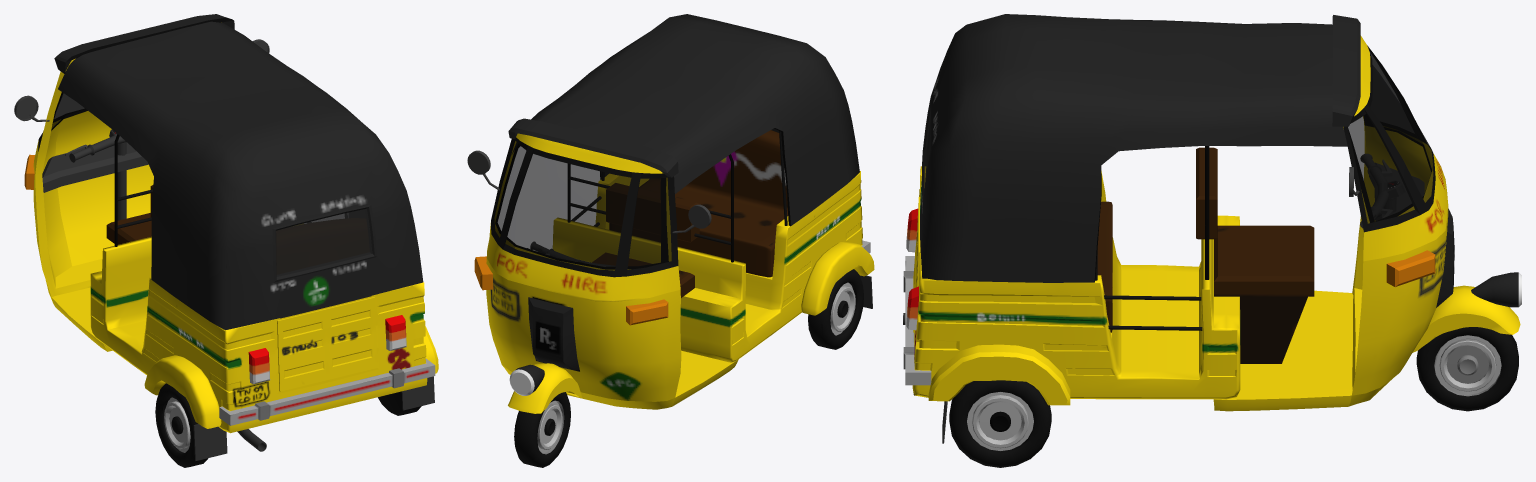
File: auto-rickshaw-rigged.glb
The picture shows the model from 3 angles, left to right: view 1: azimuth 30°, elevation 25°; view 2: azimuth 150°, elevation 25°; view 3: azimuth 270°, elevation 25°; orthographic projection. The views are drawn at different scales.
Parts seen in each view (by area): view 1: User_Auto_Rickshaw, Wheel_RL, Wheel_RR; view 2: User_Auto_Rickshaw, Wheel_F, Wheel_RL, FrontFender, FrontLamp; view 3: User_Auto_Rickshaw, Wheel_RR, Wheel_F, FrontFender, FrontLamp.
Boxes of the visible parts, x1=… form: User_Auto_Rickshaw: x1=14, y1=14, x2=438, y2=460; Wheel_RL: x1=155, y1=383, x2=208, y2=467; Wheel_RR: x1=378, y1=391, x2=421, y2=415; User_Auto_Rickshaw: x1=467, y1=14, x2=874, y2=409; Wheel_F: x1=514, y1=392, x2=570, y2=467; Wheel_RL: x1=808, y1=269, x2=863, y2=349; FrontFender: x1=508, y1=363, x2=581, y2=413; FrontLamp: x1=509, y1=364, x2=544, y2=395; User_Auto_Rickshaw: x1=903, y1=14, x2=1454, y2=443; Wheel_RR: x1=949, y1=380, x2=1051, y2=467; Wheel_F: x1=1416, y1=327, x2=1518, y2=411; FrontFender: x1=1412, y1=285, x2=1520, y2=352; FrontLamp: x1=1471, y1=272, x2=1521, y2=307.
Bounding box in the file's own units: 1.5 × 1.74 × 2.72.
Materials: 2 (2 with a texture image).
